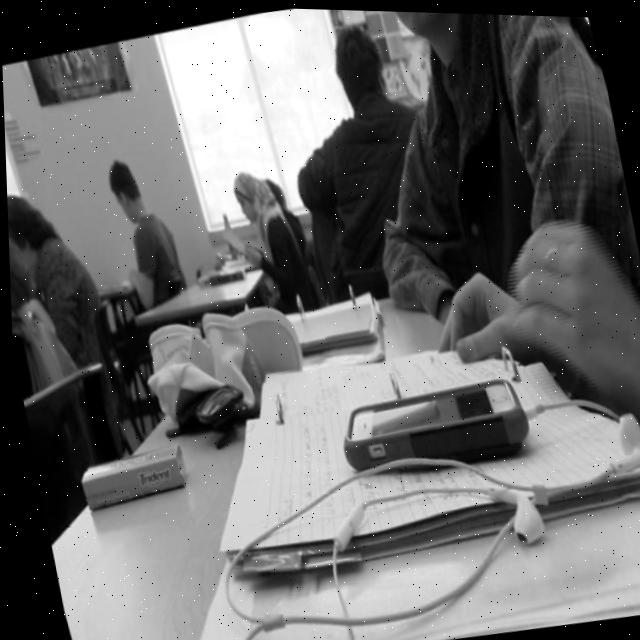phone: (326, 363, 536, 490)
